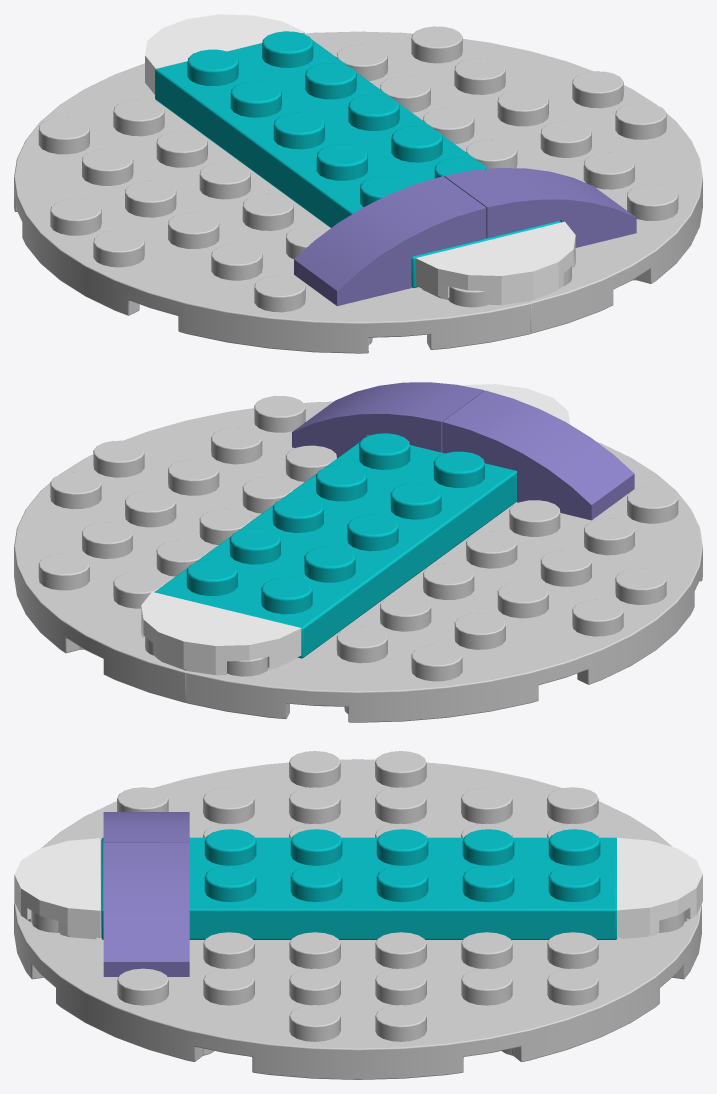
Rendered from Passo 4.fbx.
3 views of the same model, one above another, from view 1: azimuth 30°, elevation 25°; view 2: azimuth 150°, elevation 25°; view 3: azimuth 270°, elevation 25° (orthographic).
Parts seen in each view (by area): view 1: Plate_round_4x8_1.002, Plate_round_4x8.003, Plate_2x6.003, Slope_curved_2x1_Inverted__1_, Slope_curved_2x1_Inverted, Tile_round_1x2.001, Tile_round_1x2__1_.001; view 2: Plate_round_4x8_1.002, Plate_round_4x8.003, Plate_2x6.003, Slope_curved_2x1_Inverted__1_, Tile_round_1x2__1_.001, Slope_curved_2x1_Inverted, Tile_round_1x2.001; view 3: Plate_round_4x8.003, Plate_2x6.003, Plate_round_4x8_1.002, Slope_curved_2x1_Inverted, Tile_round_1x2.001, Tile_round_1x2__1_.001, Slope_curved_2x1_Inverted__1_.
Boxes of the visible parts, x1=… form: Plate_round_4x8_1.002: x1=14, y1=63, x2=530, y2=353; Plate_round_4x8.003: x1=305, y1=26, x2=702, y2=333; Plate_2x6.003: x1=155, y1=31, x2=560, y2=288; Slope_curved_2x1_Inverted__1_: x1=294, y1=176, x2=486, y2=306; Slope_curved_2x1_Inverted: x1=444, y1=168, x2=636, y2=247; Tile_round_1x2.001: x1=415, y1=221, x2=575, y2=305; Tile_round_1x2__1_.001: x1=145, y1=14, x2=304, y2=94; Plate_round_4x8_1.002: x1=186, y1=442, x2=702, y2=722; Plate_round_4x8.003: x1=14, y1=396, x2=336, y2=702; Plate_2x6.003: x1=155, y1=433, x2=516, y2=658; Slope_curved_2x1_Inverted__1_: x1=442, y1=390, x2=634, y2=520; Tile_round_1x2__1_.001: x1=141, y1=592, x2=301, y2=675; Slope_curved_2x1_Inverted: x1=292, y1=382, x2=484, y2=458; Tile_round_1x2.001: x1=461, y1=384, x2=570, y2=424; Plate_round_4x8.003: x1=14, y1=904, x2=701, y2=1079; Plate_2x6.003: x1=101, y1=829, x2=617, y2=939; Plate_round_4x8_1.002: x1=14, y1=751, x2=672, y2=933; Slope_curved_2x1_Inverted: x1=103, y1=842, x2=189, y2=976; Tile_round_1x2.001: x1=14, y1=838, x2=100, y2=939; Tile_round_1x2__1_.001: x1=617, y1=838, x2=702, y2=938; Slope_curved_2x1_Inverted__1_: x1=103, y1=812, x2=189, y2=842.
Bounding box in the file's own units: 0.6392 × 0.0961 × 0.6409.
